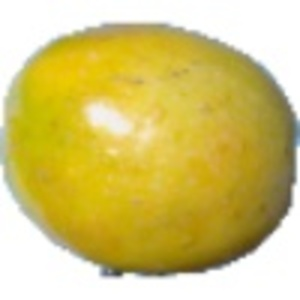maracujá: (1, 15, 300, 280)
